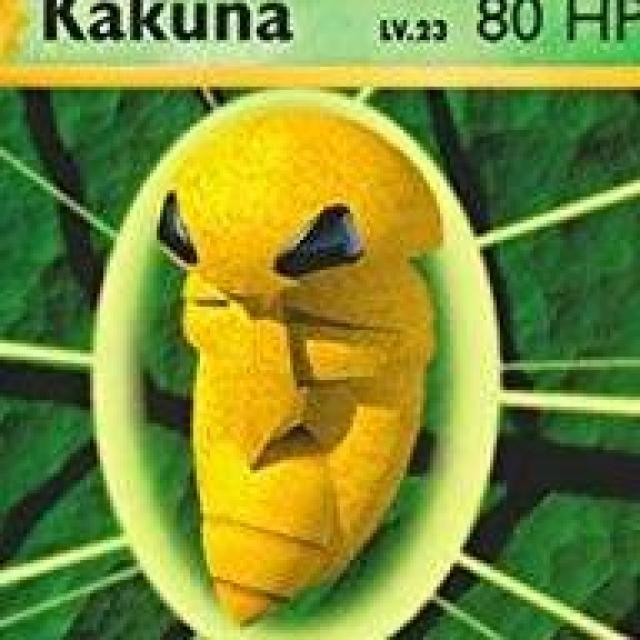Kakuna: (153, 80, 448, 629)
